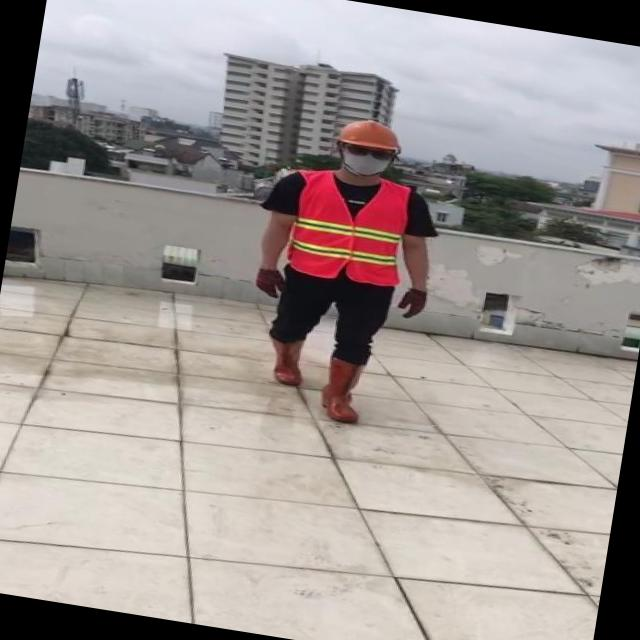hard_hat: (334, 114, 410, 155)
safety_vest: (283, 167, 414, 289)
vehicle: (228, 103, 462, 436)
work_boots: (318, 352, 369, 426), (258, 332, 308, 386)
